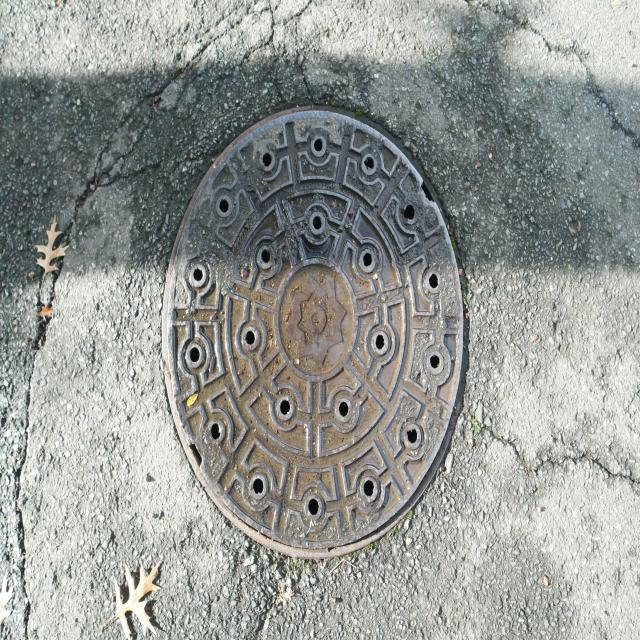manhole: (160, 107, 470, 564)
